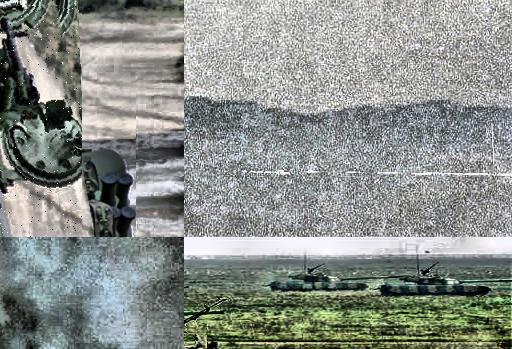tanks: (1, 1, 82, 194), (378, 266, 512, 297), (267, 266, 410, 292), (196, 335, 206, 349), (207, 311, 224, 315), (185, 312, 197, 317), (185, 287, 189, 290)
